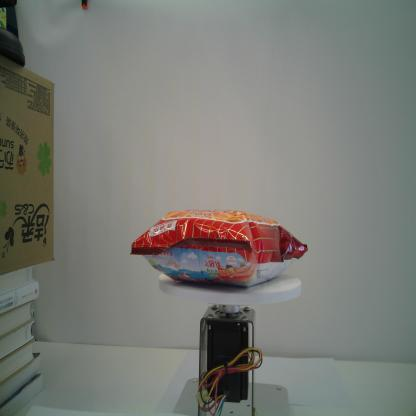Puffed Food: (129, 209, 308, 288)
